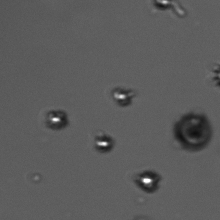Dead Cell: (172, 112, 213, 150)
Living Cell: (134, 169, 161, 192), (109, 86, 135, 107), (45, 109, 68, 130), (91, 135, 113, 153)
